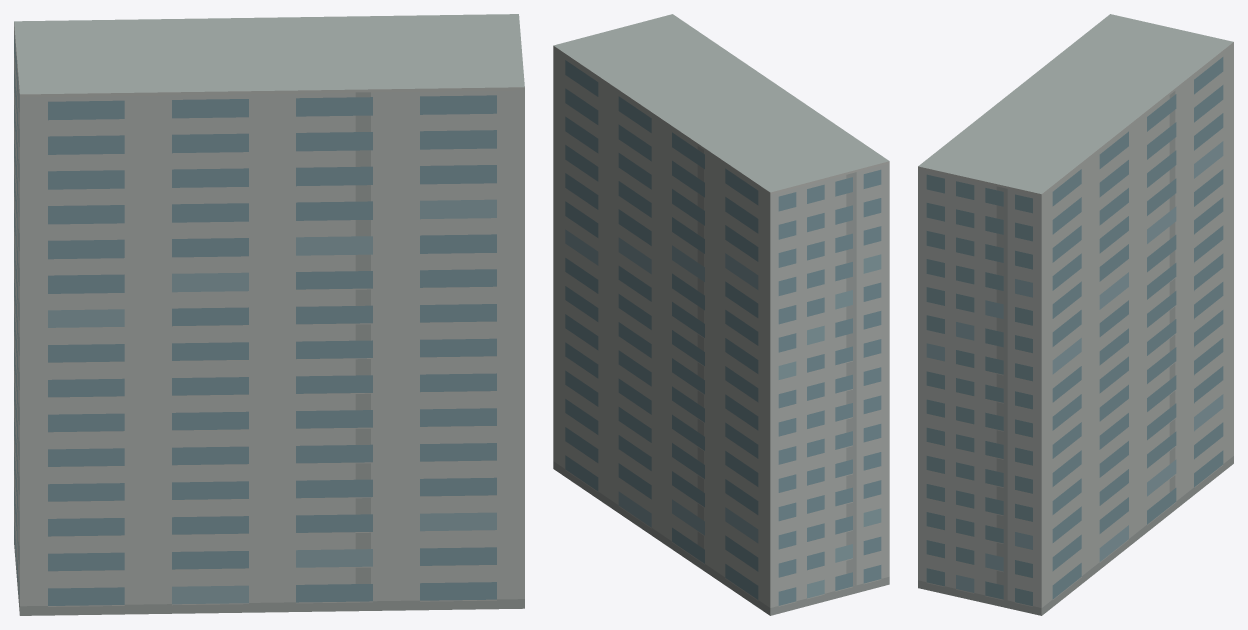
Rendered from residential-98f1b355-b142-48de-97ec-59e9d4a9c53d.glb.
3 views of the same model, side by side, from view 1: azimuth 30°, elevation 25°; view 2: azimuth 150°, elevation 25°; view 3: azimuth 270°, elevation 25° (orthographic). The views are drawn at different scales.
Parts seen in each view (by area): view 1: residential-98f1b355-b142-48de-97ec-59e9d4a9c53d.tmp; view 2: residential-98f1b355-b142-48de-97ec-59e9d4a9c53d.tmp; view 3: residential-98f1b355-b142-48de-97ec-59e9d4a9c53d.tmp.
Boxes of the visible parts, bbox=[...] form: residential-98f1b355-b142-48de-97ec-59e9d4a9c53d.tmp: bbox=[14, 14, 524, 615]; residential-98f1b355-b142-48de-97ec-59e9d4a9c53d.tmp: bbox=[553, 14, 889, 615]; residential-98f1b355-b142-48de-97ec-59e9d4a9c53d.tmp: bbox=[918, 14, 1233, 615].
Size of the model in its own units: 41.94 by 45.75 by 31.07.
